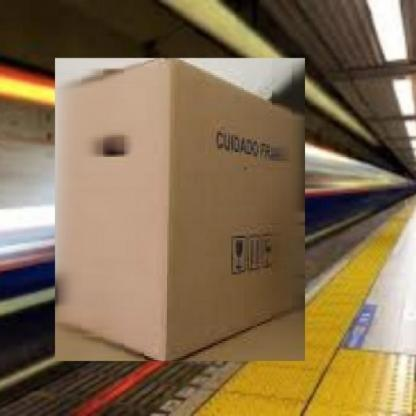-: (51, 54, 310, 367)
